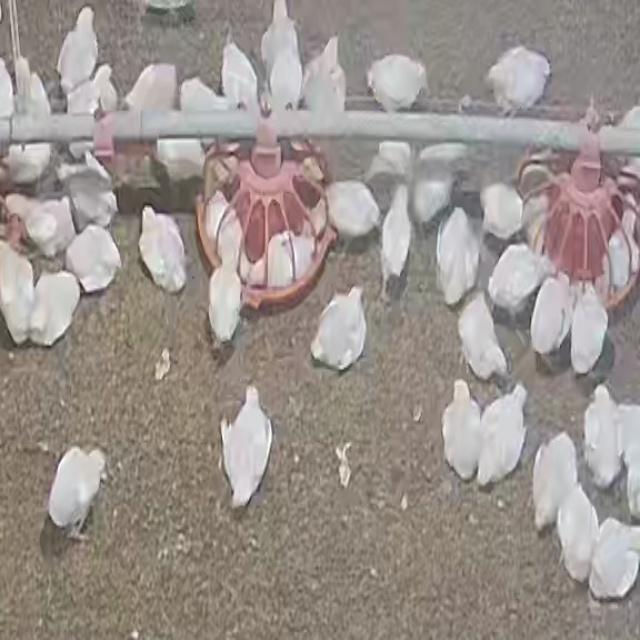chicken: (176, 76, 240, 189), (219, 386, 273, 509), (46, 446, 108, 539), (474, 384, 528, 486), (456, 292, 510, 383), (311, 287, 368, 372), (260, 1, 302, 108), (60, 153, 118, 230), (531, 433, 579, 526), (554, 487, 600, 582), (415, 140, 469, 220), (138, 206, 188, 292), (3, 192, 72, 254), (489, 242, 553, 307), (442, 381, 482, 481), (301, 37, 347, 123), (485, 51, 553, 108), (65, 224, 122, 292), (588, 522, 639, 598), (28, 270, 80, 344), (56, 5, 98, 96), (582, 387, 620, 487), (437, 209, 477, 303), (364, 61, 426, 118), (0, 245, 36, 342), (530, 276, 573, 352), (571, 285, 607, 375), (326, 183, 381, 239), (208, 261, 244, 346), (220, 34, 260, 110), (378, 194, 412, 281), (615, 398, 640, 508), (474, 181, 522, 237), (262, 230, 308, 288), (123, 63, 177, 112), (606, 203, 638, 283), (3, 139, 53, 189), (156, 138, 207, 183), (179, 77, 235, 114), (365, 140, 413, 183), (519, 186, 551, 247), (215, 206, 242, 276), (204, 188, 232, 248), (25, 69, 51, 120), (91, 65, 118, 114), (238, 235, 263, 285), (307, 193, 328, 240), (616, 106, 640, 133)
